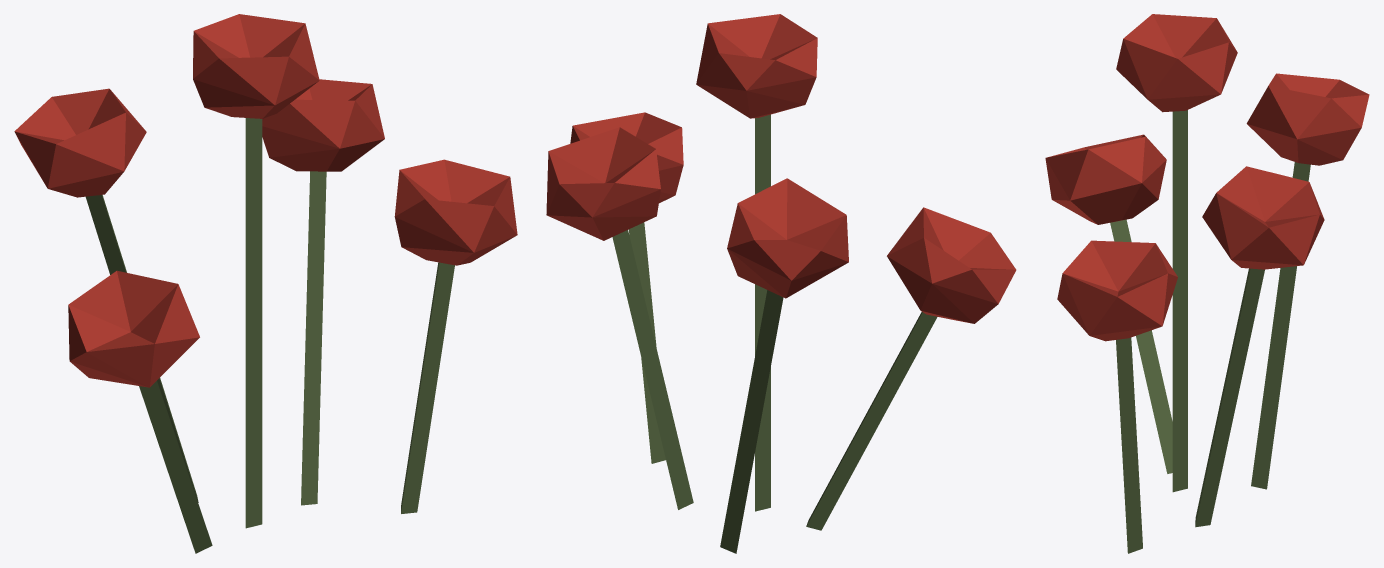
The model's file is SM_Envr_Nature_Plant_Flower_Group_01.fbx.
3 renders of one model, left to right at view 1: azimuth 30°, elevation 25°; view 2: azimuth 150°, elevation 25°; view 3: azimuth 270°, elevation 25°, orthographic. The views are drawn at different scales.
Parts seen in each view (by area): view 1: SM_Envr_Nature_Plant_Flower_Group_01; view 2: SM_Envr_Nature_Plant_Flower_Group_01; view 3: SM_Envr_Nature_Plant_Flower_Group_01.
Boxes of the visible parts, box(x1,y1,x2,y2) form: SM_Envr_Nature_Plant_Flower_Group_01: box(14, 14, 517, 553); SM_Envr_Nature_Plant_Flower_Group_01: box(546, 14, 1016, 553); SM_Envr_Nature_Plant_Flower_Group_01: box(1045, 14, 1369, 553).
Size of the model in its own units: 55.46 by 60.03 by 37.87.
